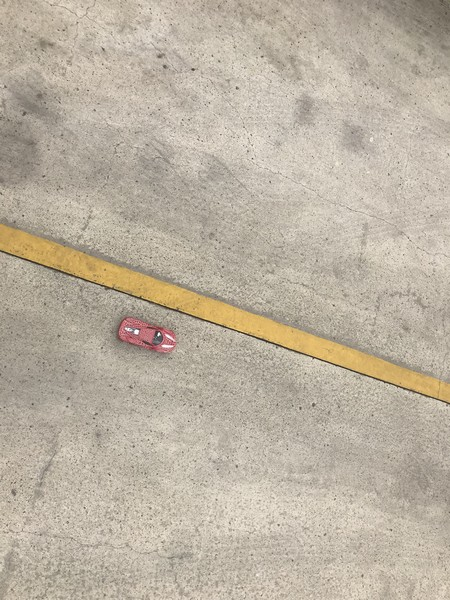RC: (116, 316, 179, 356)
